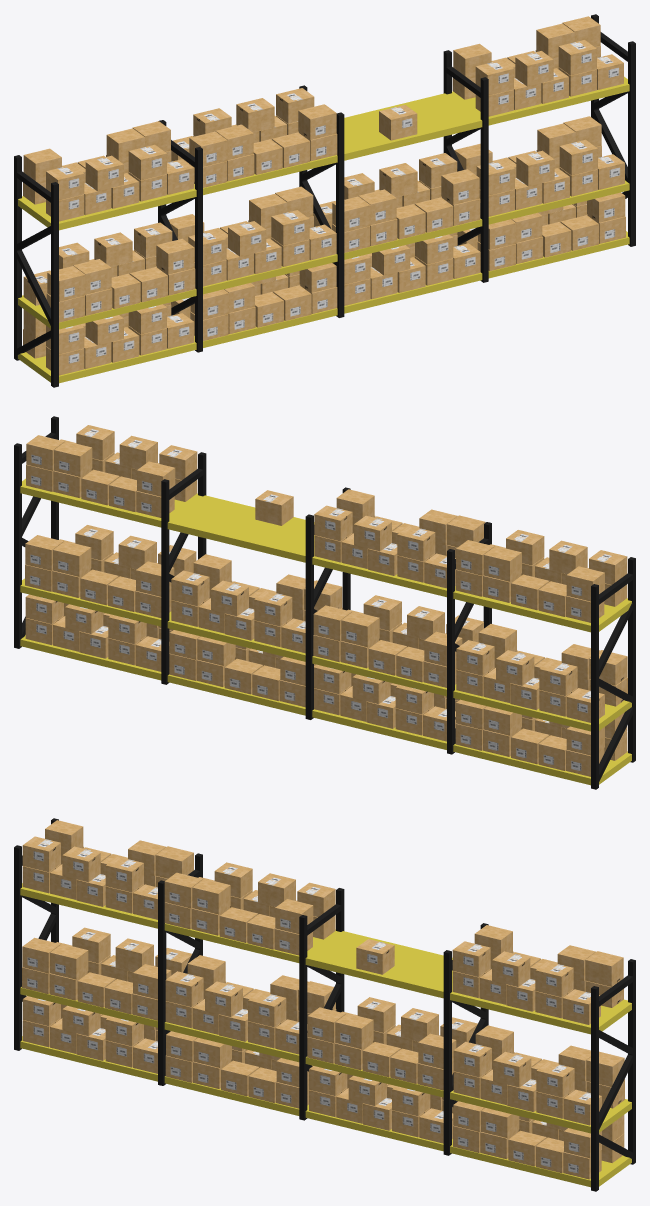
Rendered from shelf_big_movai.dae.
3 renders of one model, top to bottom at view 1: azimuth 30°, elevation 25°; view 2: azimuth 150°, elevation 25°; view 3: azimuth 330°, elevation 25°, orthographic.
Visible parts, largest first — view 1: box, boards, metal_base, Cube; view 2: box, boards, metal_base, Cube; view 3: box, boards, metal_base, Cube.
Part boxes in pixels (left/top/right/bottom): box: left=23, top=16, right=625, bottom=375; boards: left=18, top=76, right=629, bottom=383; metal_base: left=14, top=14, right=635, bottom=387; Cube: left=379, top=105, right=417, bottom=140; box: left=25, top=425, right=627, bottom=776; boards: left=20, top=478, right=631, bottom=785; metal_base: left=14, top=416, right=635, bottom=789; Cube: left=255, top=490, right=293, bottom=525; box: left=22, top=820, right=624, bottom=1179; boards: left=20, top=883, right=631, bottom=1187; metal_base: left=14, top=818, right=635, bottom=1191; Cube: left=356, top=939, right=394, bottom=974.
Bounding box in the file's own units: 18.06 × 2.14 × 6.06.
4 materials, 2 textured.
